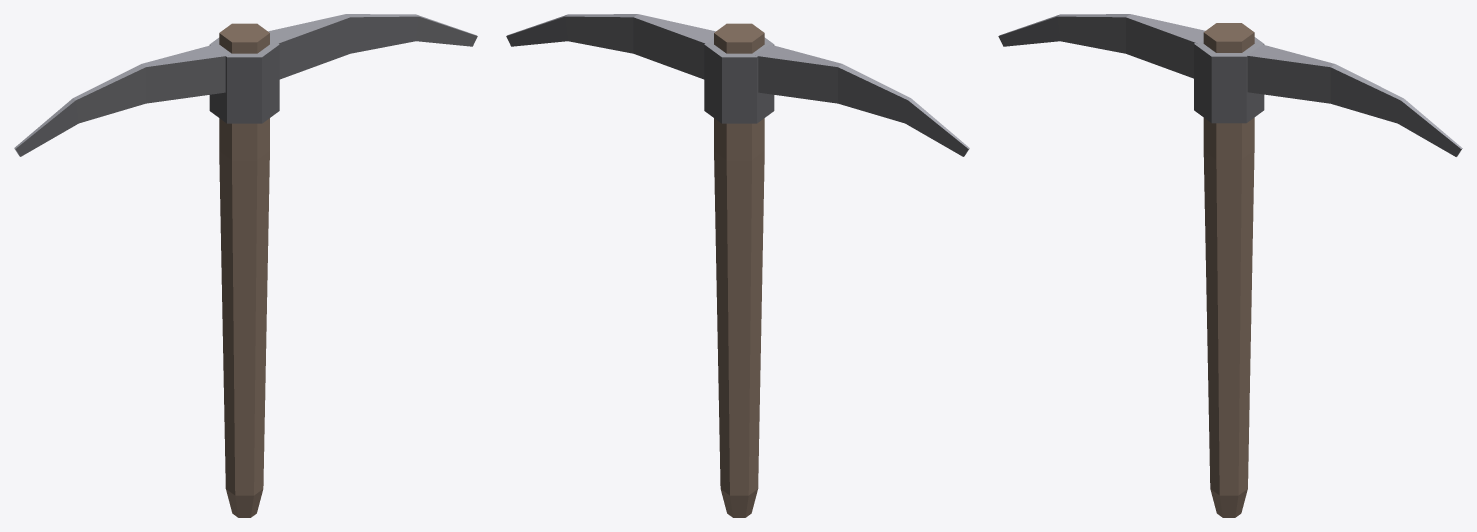
Rendered from Peak.glb.
3 renders of one model, left to right at view 1: azimuth 30°, elevation 25°; view 2: azimuth 150°, elevation 25°; view 3: azimuth 330°, elevation 25°, orthographic.
Visible parts, largest first — view 1: Peak; view 2: Peak; view 3: Peak.
Boxes of the visible parts, left/top/right/bottom form: Peak: left=14, top=14, right=477, bottom=517; Peak: left=506, top=14, right=969, bottom=517; Peak: left=998, top=14, right=1462, bottom=517.
Size of what is drawn, in the model's own units: 0.8951 by 0.8889 by 0.1176.
1 material, 1 textured.
